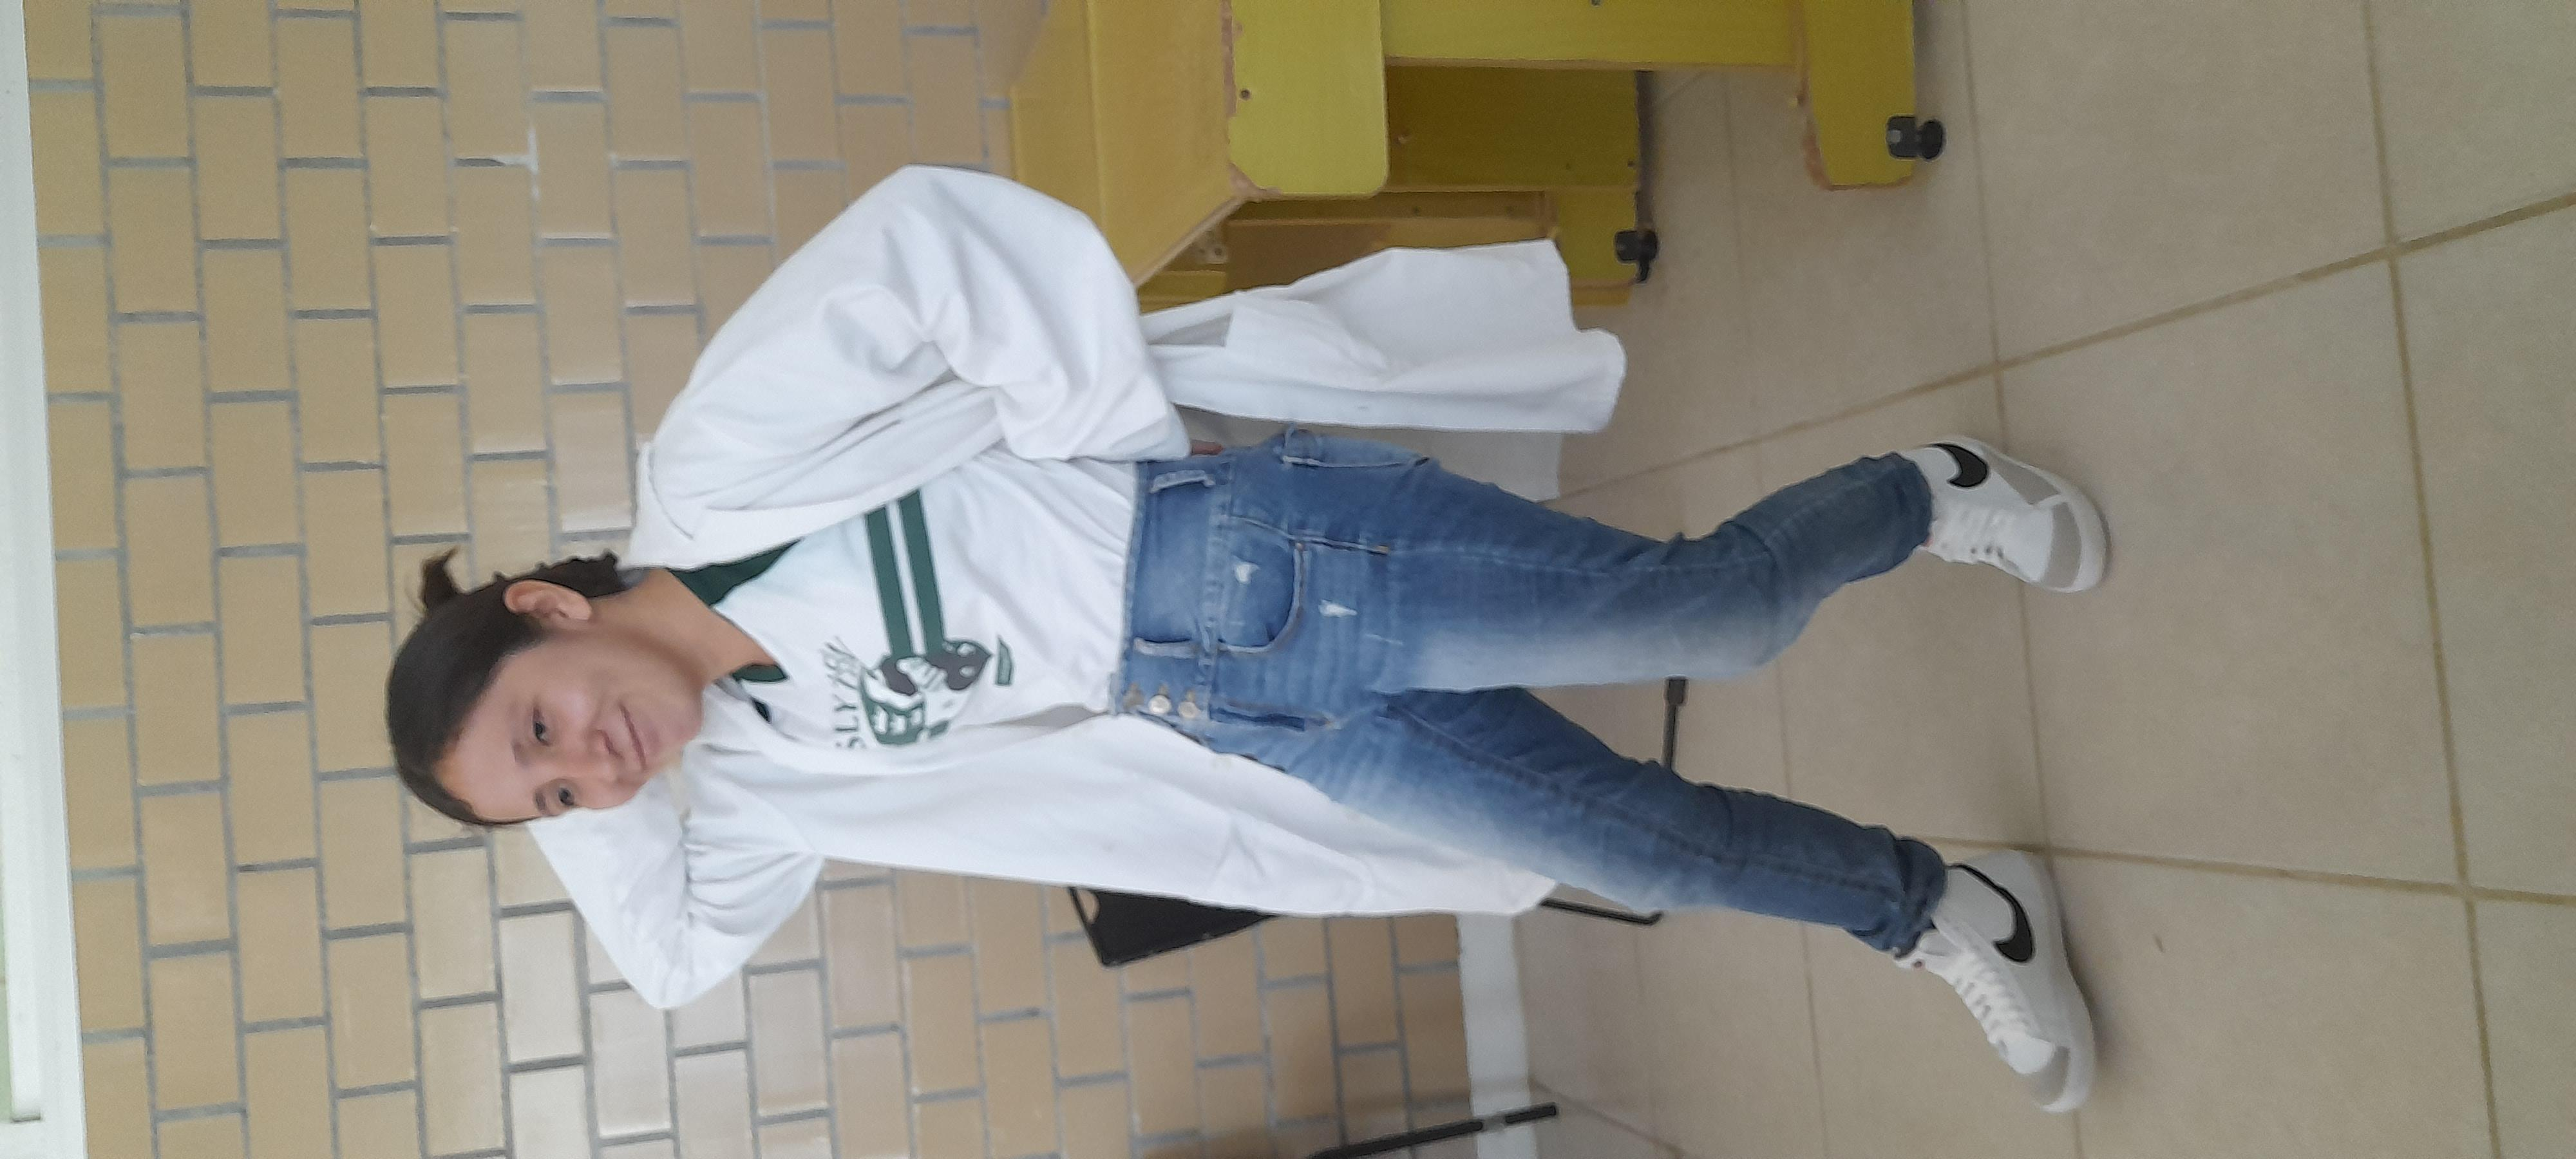Bata-Incorrecta: (100, 144, 2275, 993)
